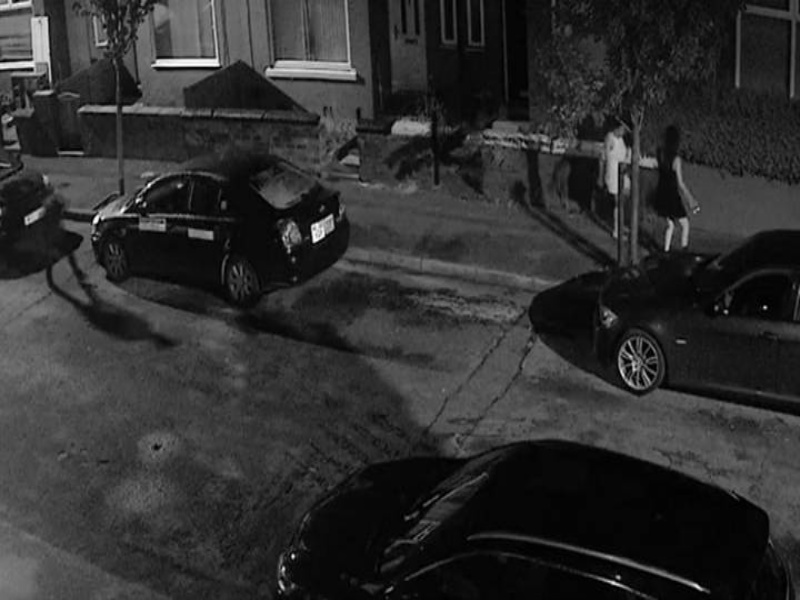car: (562, 225, 800, 424), (85, 143, 355, 313)
person: (643, 122, 706, 255), (596, 116, 640, 244)
